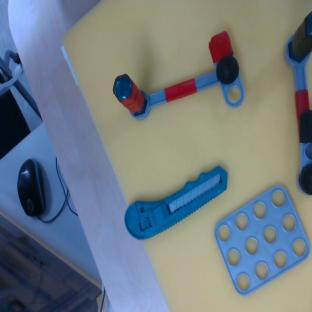non_pass: (284, 11, 312, 195)
pass: (107, 31, 253, 147)
